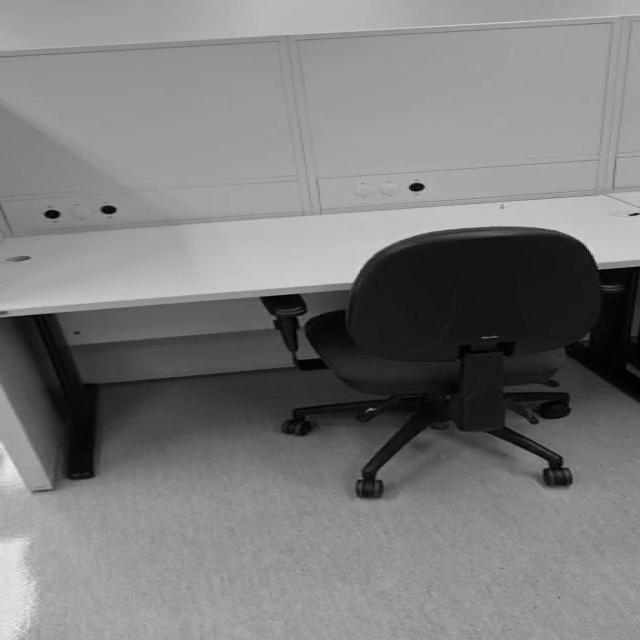cadeira-azul: (258, 226, 598, 499)
